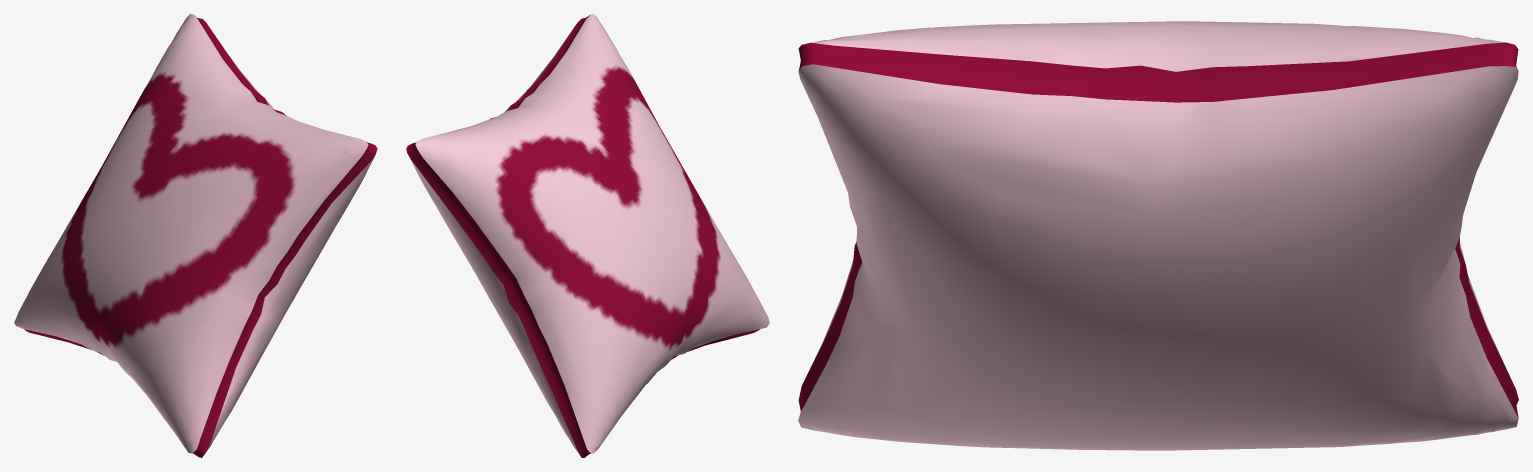
File: pillow textured.fbx
The picture shows the model from 3 angles, left to right: view 1: azimuth 30°, elevation 25°; view 2: azimuth 150°, elevation 25°; view 3: azimuth 270°, elevation 25°; orthographic projection. The views are drawn at different scales.
Visible parts, largest first — view 1: Cushion Pillow; view 2: Cushion Pillow; view 3: Cushion Pillow.
Boxes of the visible parts, <box> form: Cushion Pillow: <box>14,14,377,457</box>; Cushion Pillow: <box>406,14,769,457</box>; Cushion Pillow: <box>798,21,1518,450</box>.
Bounding box in the file's own units: 819 × 1106 × 1311.
